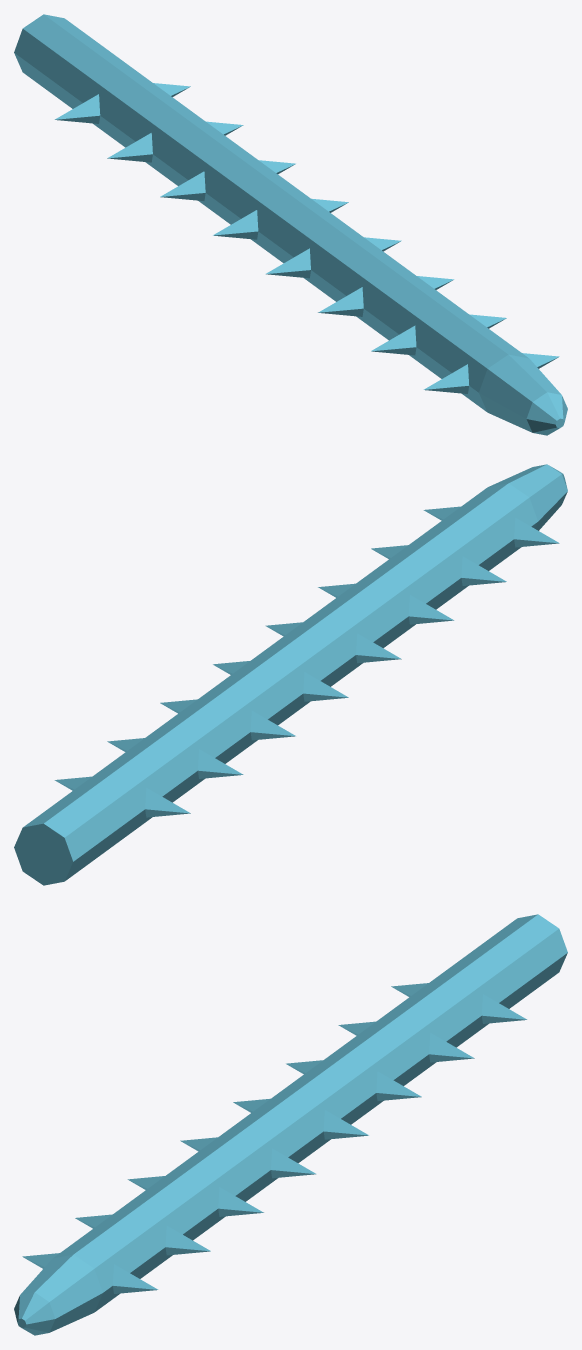
The model's file is blade-serrated.glb.
The picture shows the model from 3 angles, top to bottom: view 1: azimuth 30°, elevation 25°; view 2: azimuth 150°, elevation 25°; view 3: azimuth 330°, elevation 25°; orthographic projection.
Visible parts, largest first — view 1: m; view 2: m; view 3: m.
Part boxes in pixels (box(x1,y1,x2,y2)): m: box(14, 14, 567, 435); m: box(14, 464, 567, 885); m: box(14, 914, 567, 1335).
Bounding box in the file's own units: 0.03 × 0.013 × 0.196.
